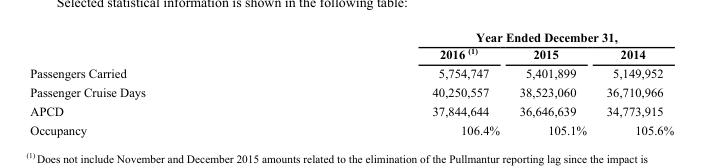table: (29, 29, 673, 136)
table column: (29, 29, 288, 136), (288, 29, 508, 136), (508, 29, 595, 136), (595, 29, 673, 136)
table column header: (29, 29, 673, 63)
table row: (29, 44, 673, 63), (29, 63, 673, 82), (29, 82, 673, 101), (29, 101, 673, 120), (29, 120, 673, 136), (29, 29, 673, 44)
table spanning cell: (288, 29, 673, 44)
